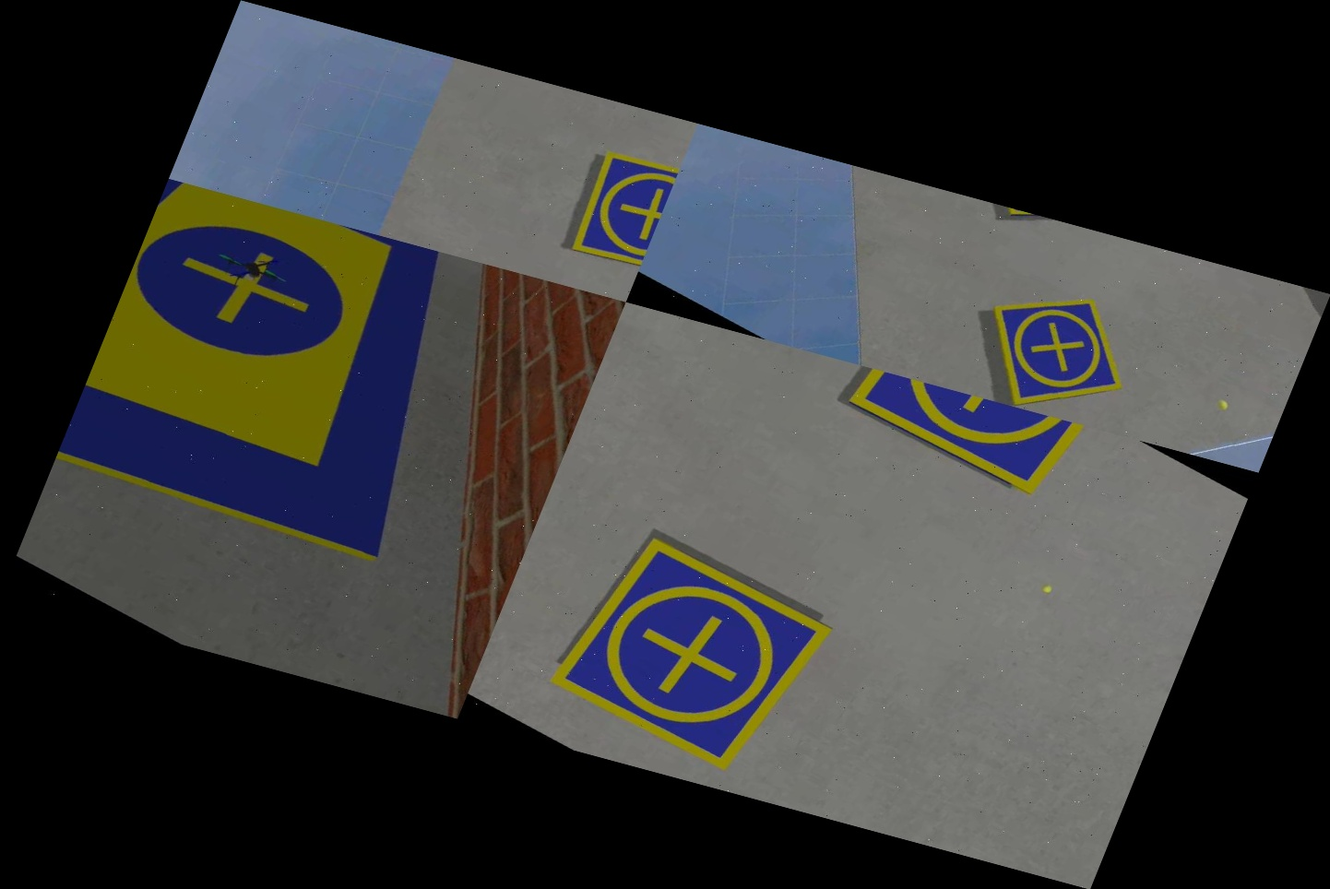large_base: (16, 179, 582, 667)
small_base: (522, 521, 855, 789), (934, 254, 1177, 436), (825, 364, 1091, 508), (528, 120, 688, 292), (955, 196, 1103, 255)
